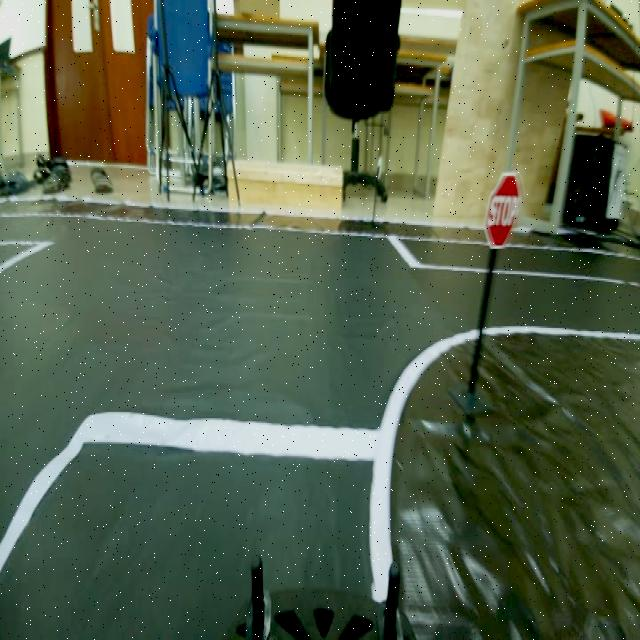stop: (485, 162, 524, 256)
